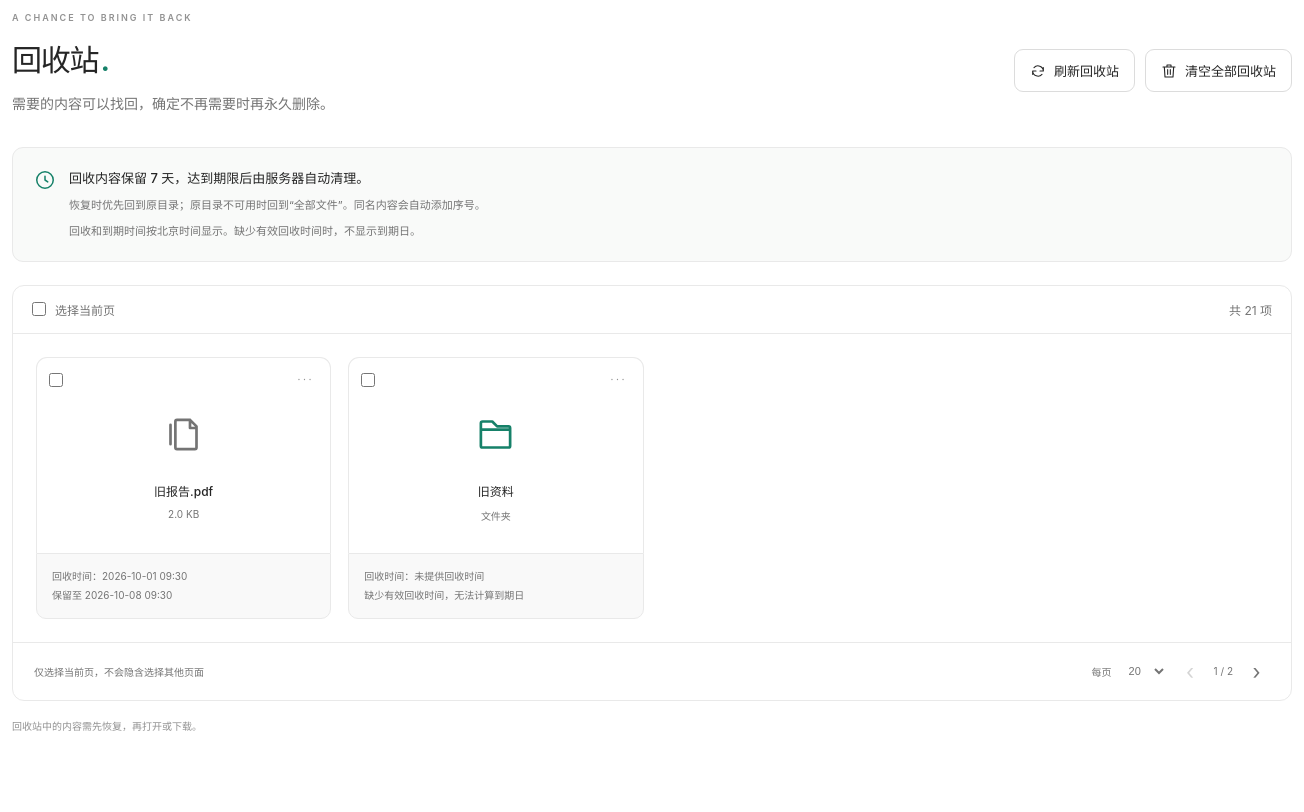
Scenario: 回收站界面 › 当前页全选与分页互相隔离，下一页不会沿用旧选择
Click the checkbox named "选择当前页全部回收项" at [39, 309], box [32,302,46,316]
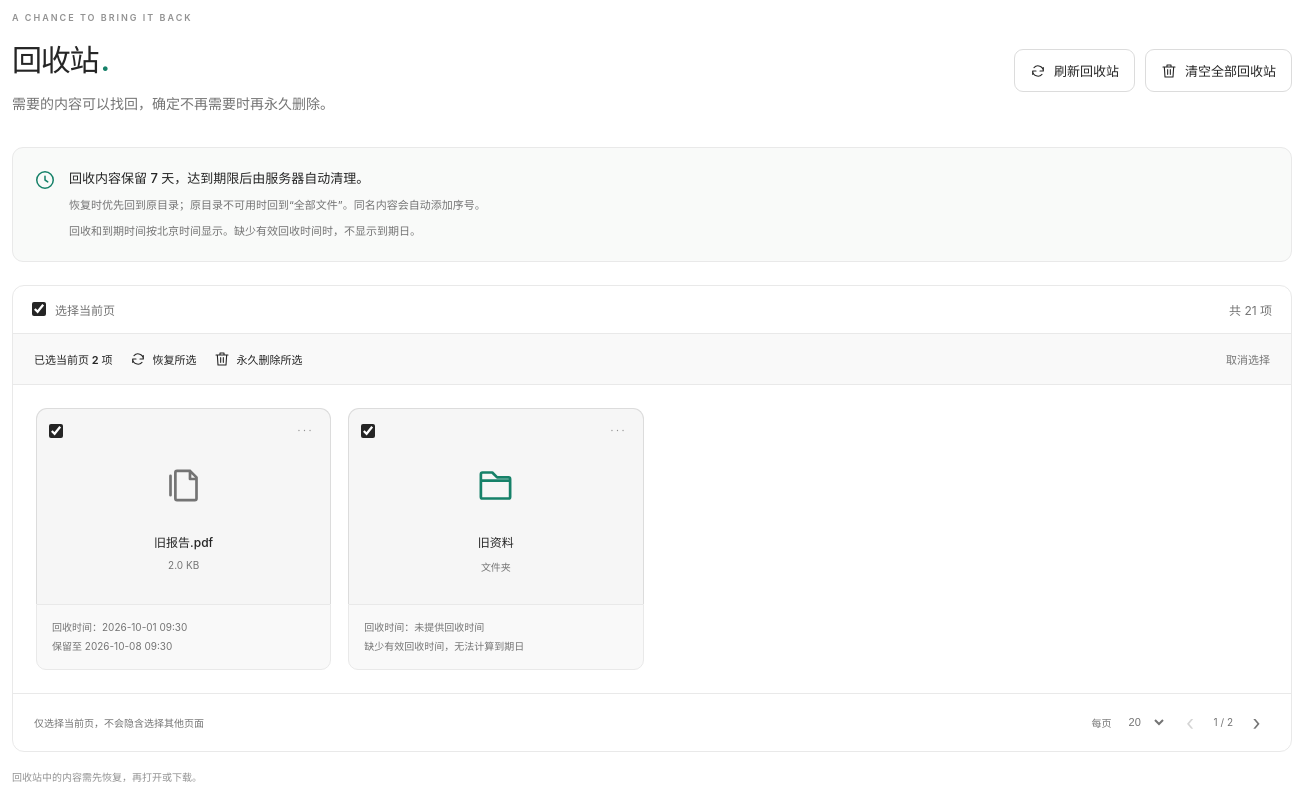
Expected: the element with class "selection-toolbar" shows "当前页 2 项", [34,353,112,367]
Click the button named "下一页回收站" at [1256, 722], box [1243,707,1270,737]
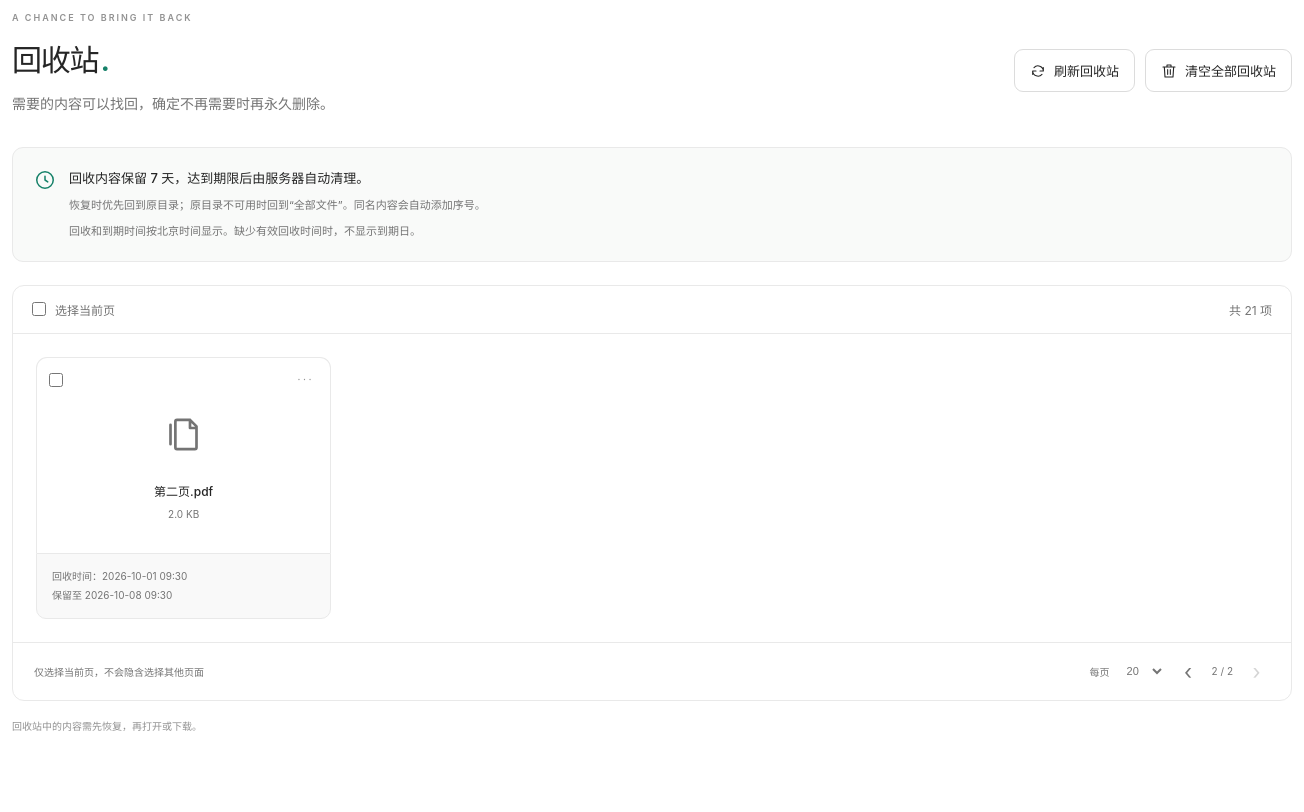
Expected: the checkbox named "选择 第二页.pdf" is not checked, [49,373,63,387]
